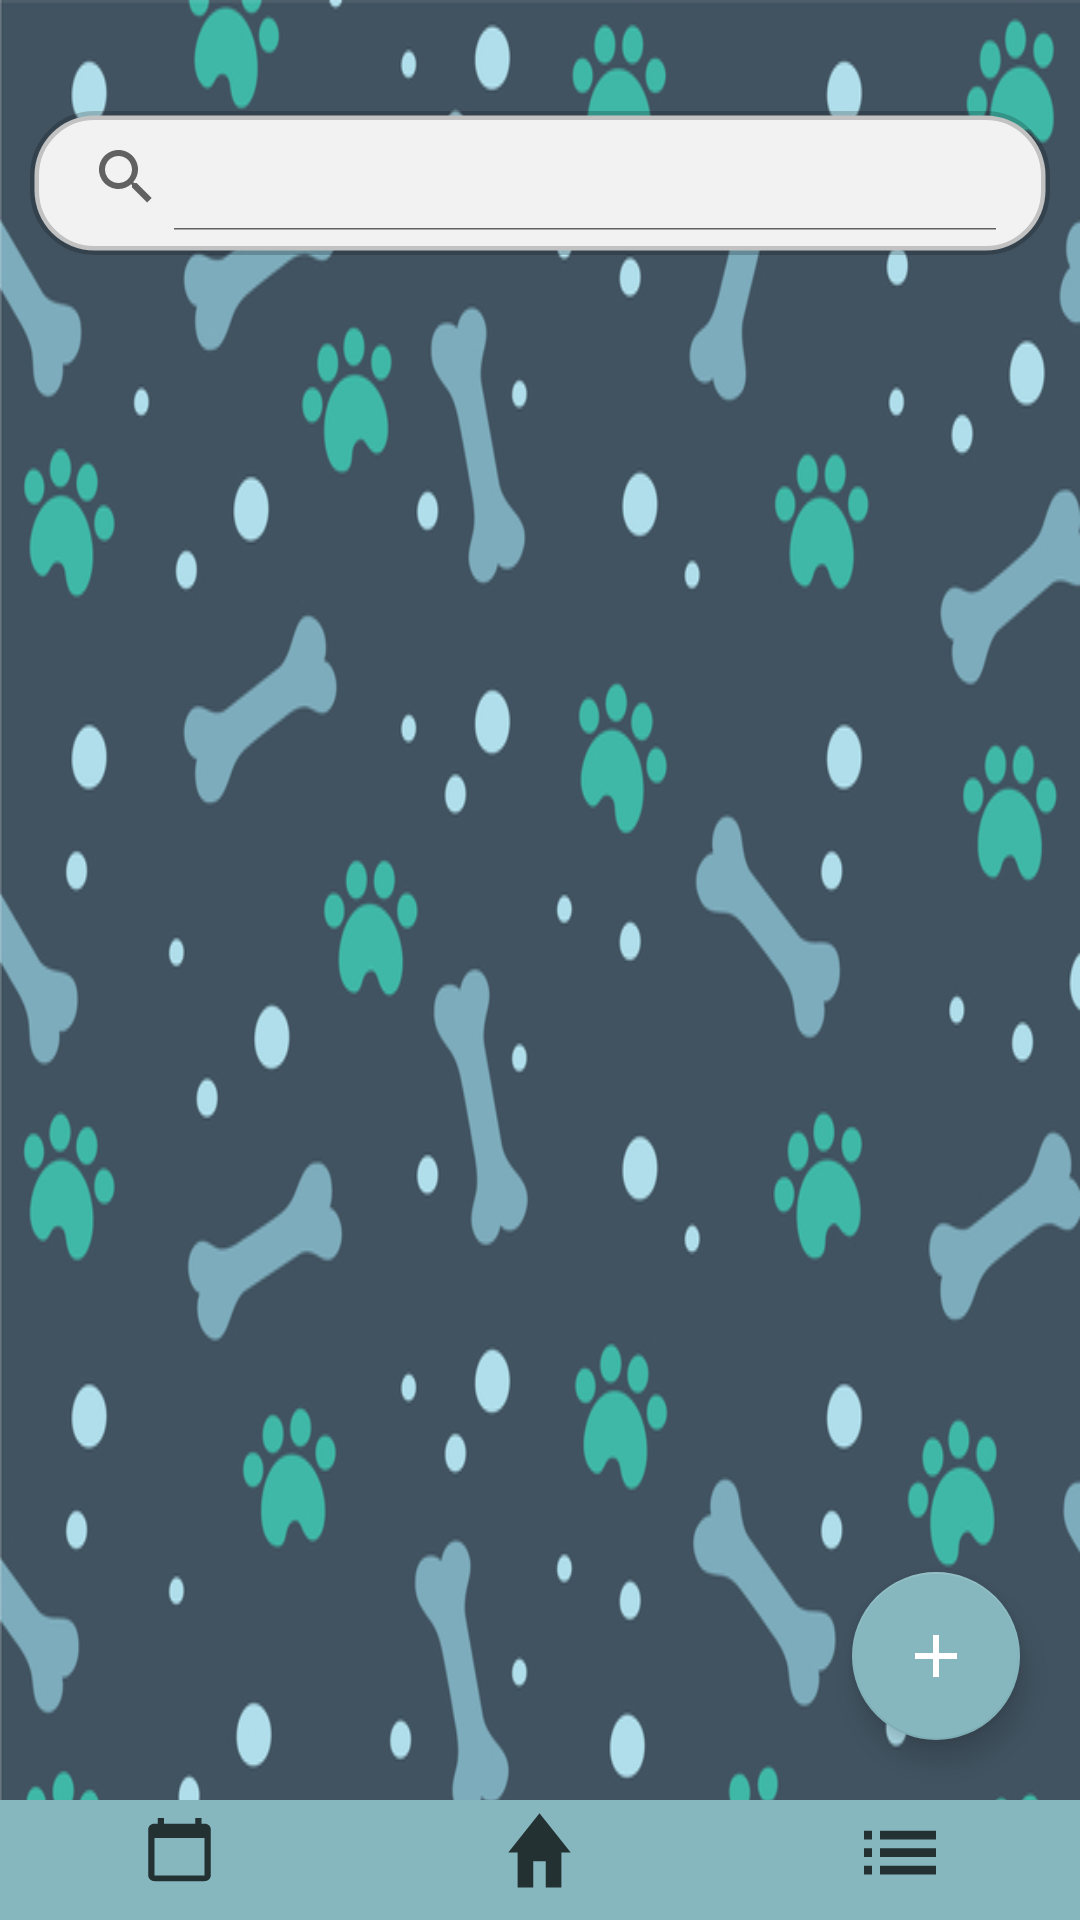

Named icons in this screenshot (1080x1920) and their centers, (x=x, y=y):
add: (x=936, y=1656)
hover calendar: (x=179, y=1850)
hover home: (x=539, y=1850)
hover list: (x=900, y=1852)
